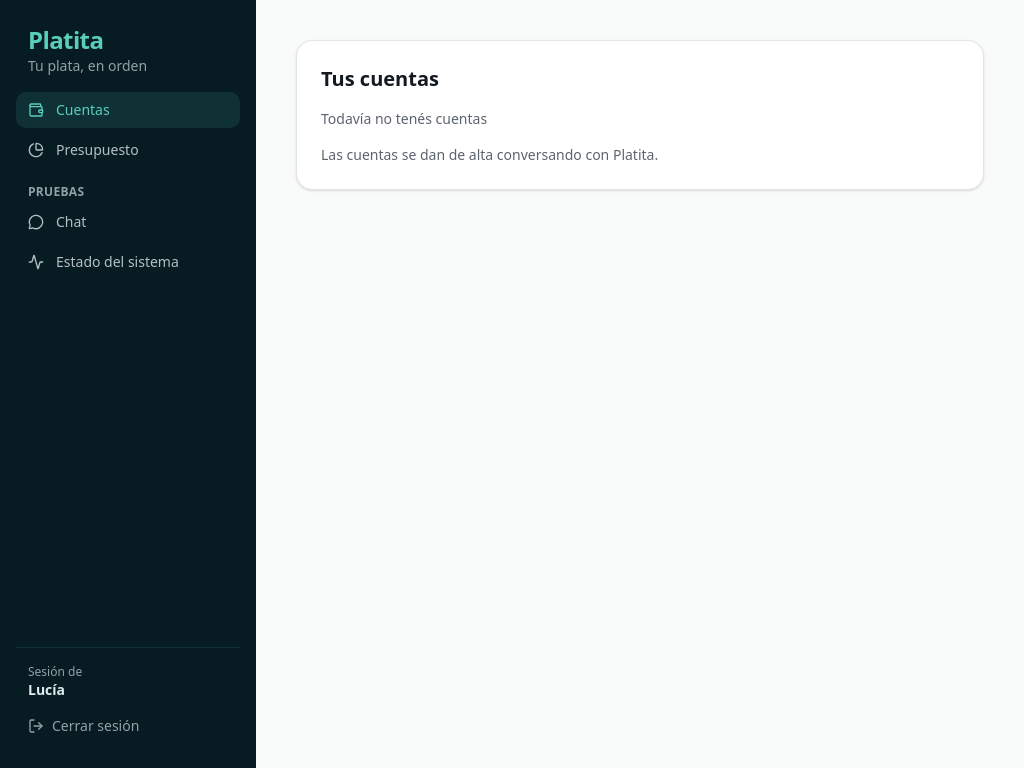
Test: case C1-11: while the conversation opens, it says so and there is nowhere to write
The image size is (1024, 768).
Click the button "Chat": x=128, y=222 left=16, top=204, right=240, bottom=240
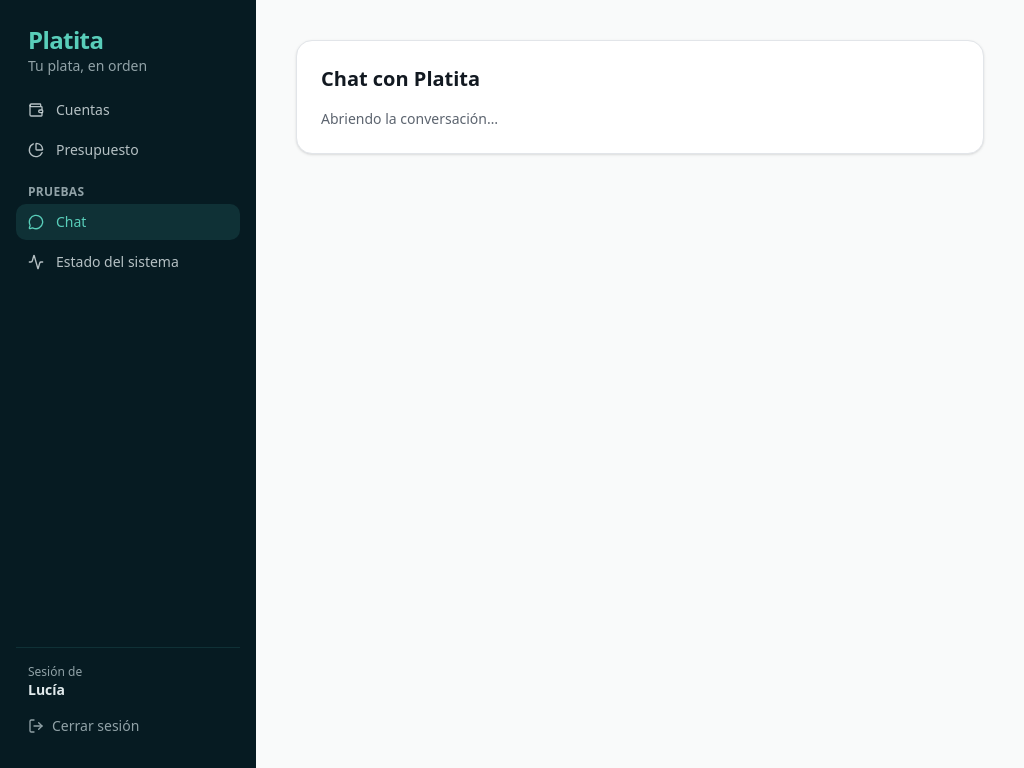
Check: the text "Abriendo la conversación…" is shown, box left=321, top=109, right=498, bottom=128
